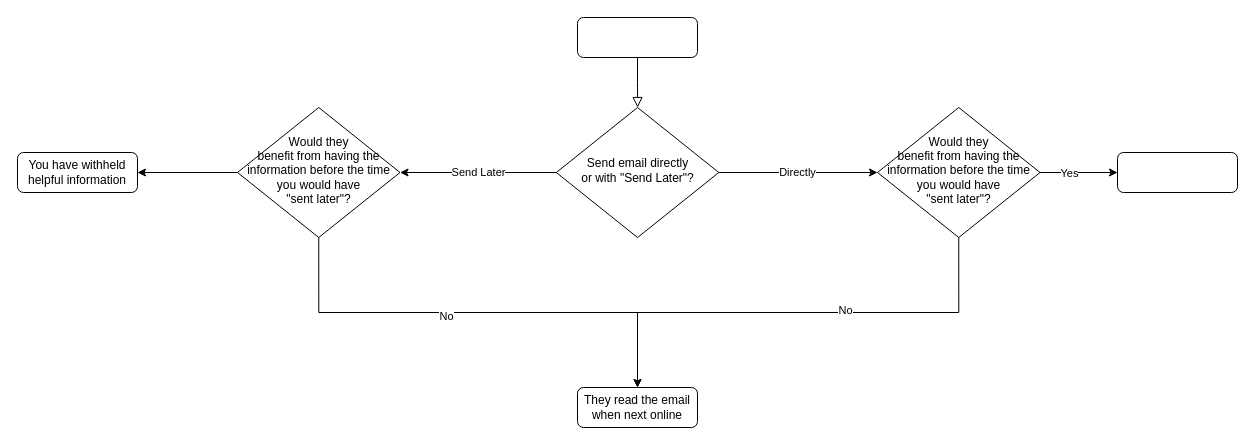
This 1255x445 diagram has some shape labels left out. Here are the shapes that lost their labels. From the top down, the centre of each, then its label:
the point at 637,37: START
the point at 1177,172: This case is better than "Send Later"
